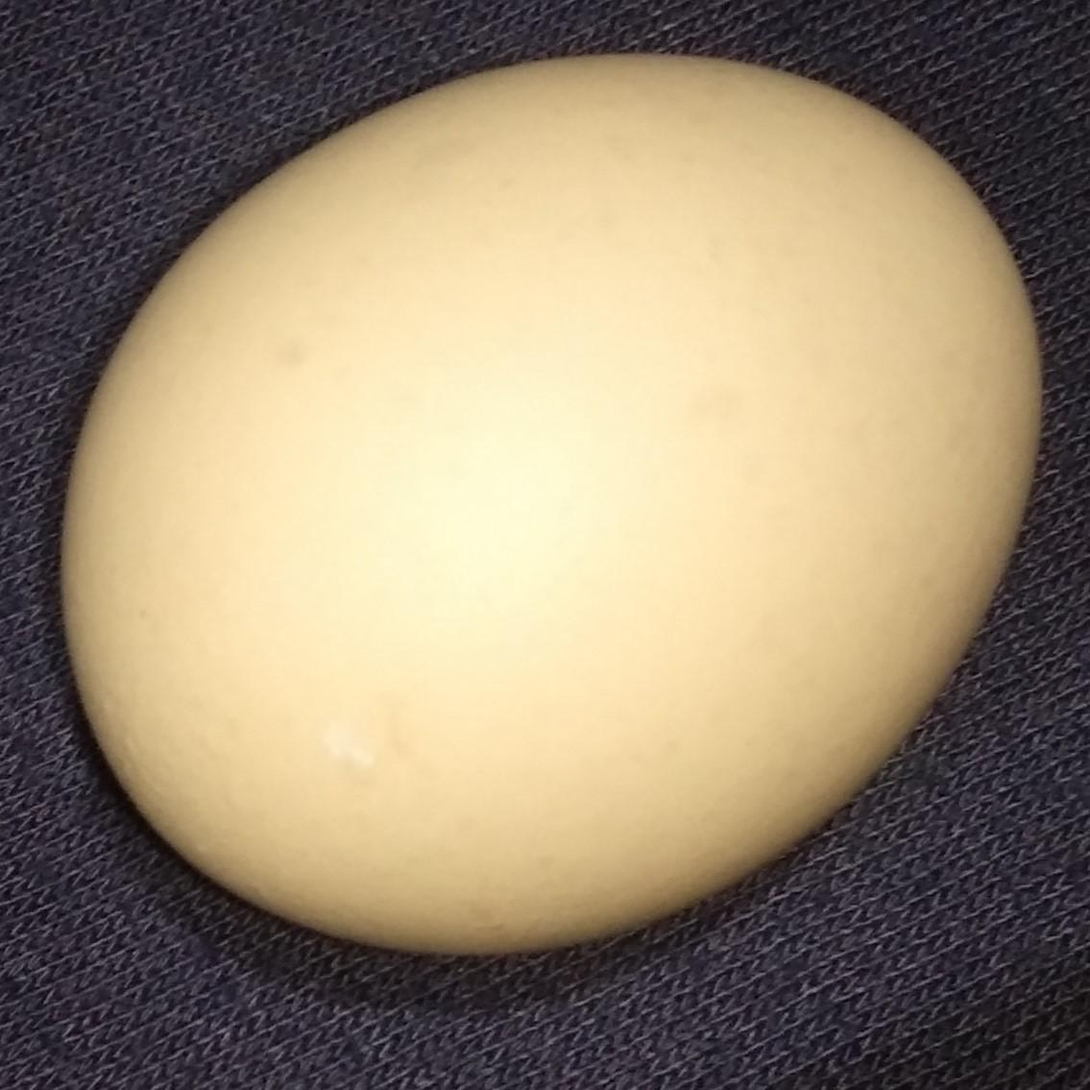egg: (56, 49, 1045, 960)
